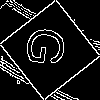G: (25, 25, 76, 70)
